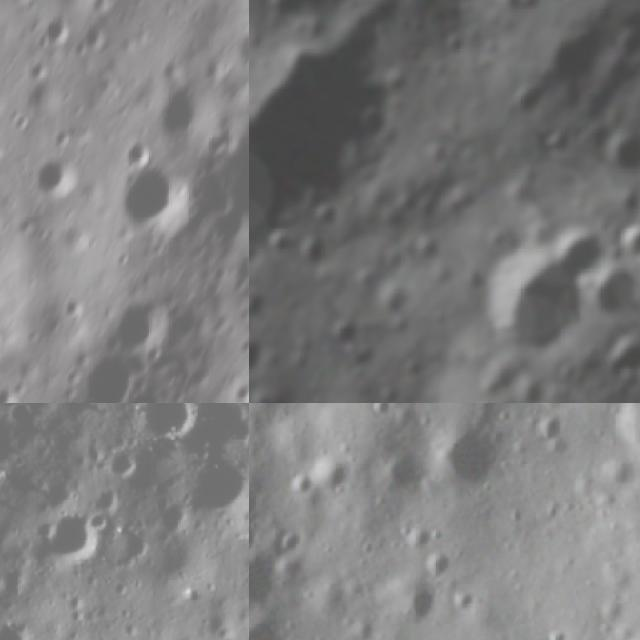crater: (465, 239, 599, 381), (419, 403, 520, 505), (534, 5, 620, 89), (361, 434, 436, 510), (104, 286, 178, 360), (545, 218, 621, 288), (121, 159, 187, 236), (182, 453, 249, 528), (381, 567, 450, 634), (579, 258, 640, 332), (154, 74, 212, 147), (589, 110, 640, 192), (32, 512, 103, 570), (249, 536, 294, 621), (71, 348, 140, 403), (470, 350, 536, 403), (305, 440, 363, 498), (23, 152, 85, 206), (489, 377, 612, 403), (122, 403, 196, 446), (187, 403, 249, 454), (392, 504, 448, 560), (218, 129, 249, 226), (518, 208, 572, 262), (598, 324, 640, 390), (367, 274, 420, 326), (249, 403, 274, 511), (249, 595, 308, 640), (290, 226, 340, 277), (249, 483, 277, 572), (503, 72, 550, 125), (598, 403, 640, 459), (524, 407, 572, 455), (351, 97, 395, 148), (406, 228, 453, 275), (416, 542, 461, 586), (249, 271, 282, 330), (306, 198, 352, 240), (380, 0, 491, 17), (264, 0, 325, 30), (433, 20, 476, 62), (249, 321, 277, 384), (607, 13, 640, 66), (322, 311, 364, 351), (609, 216, 640, 270), (249, 377, 313, 403), (487, 0, 548, 26), (376, 65, 417, 103), (37, 11, 74, 53), (262, 222, 300, 261), (286, 465, 322, 502), (103, 445, 141, 480), (0, 613, 41, 640), (24, 56, 58, 87), (523, 403, 579, 420), (372, 376, 406, 403), (224, 375, 249, 403)
